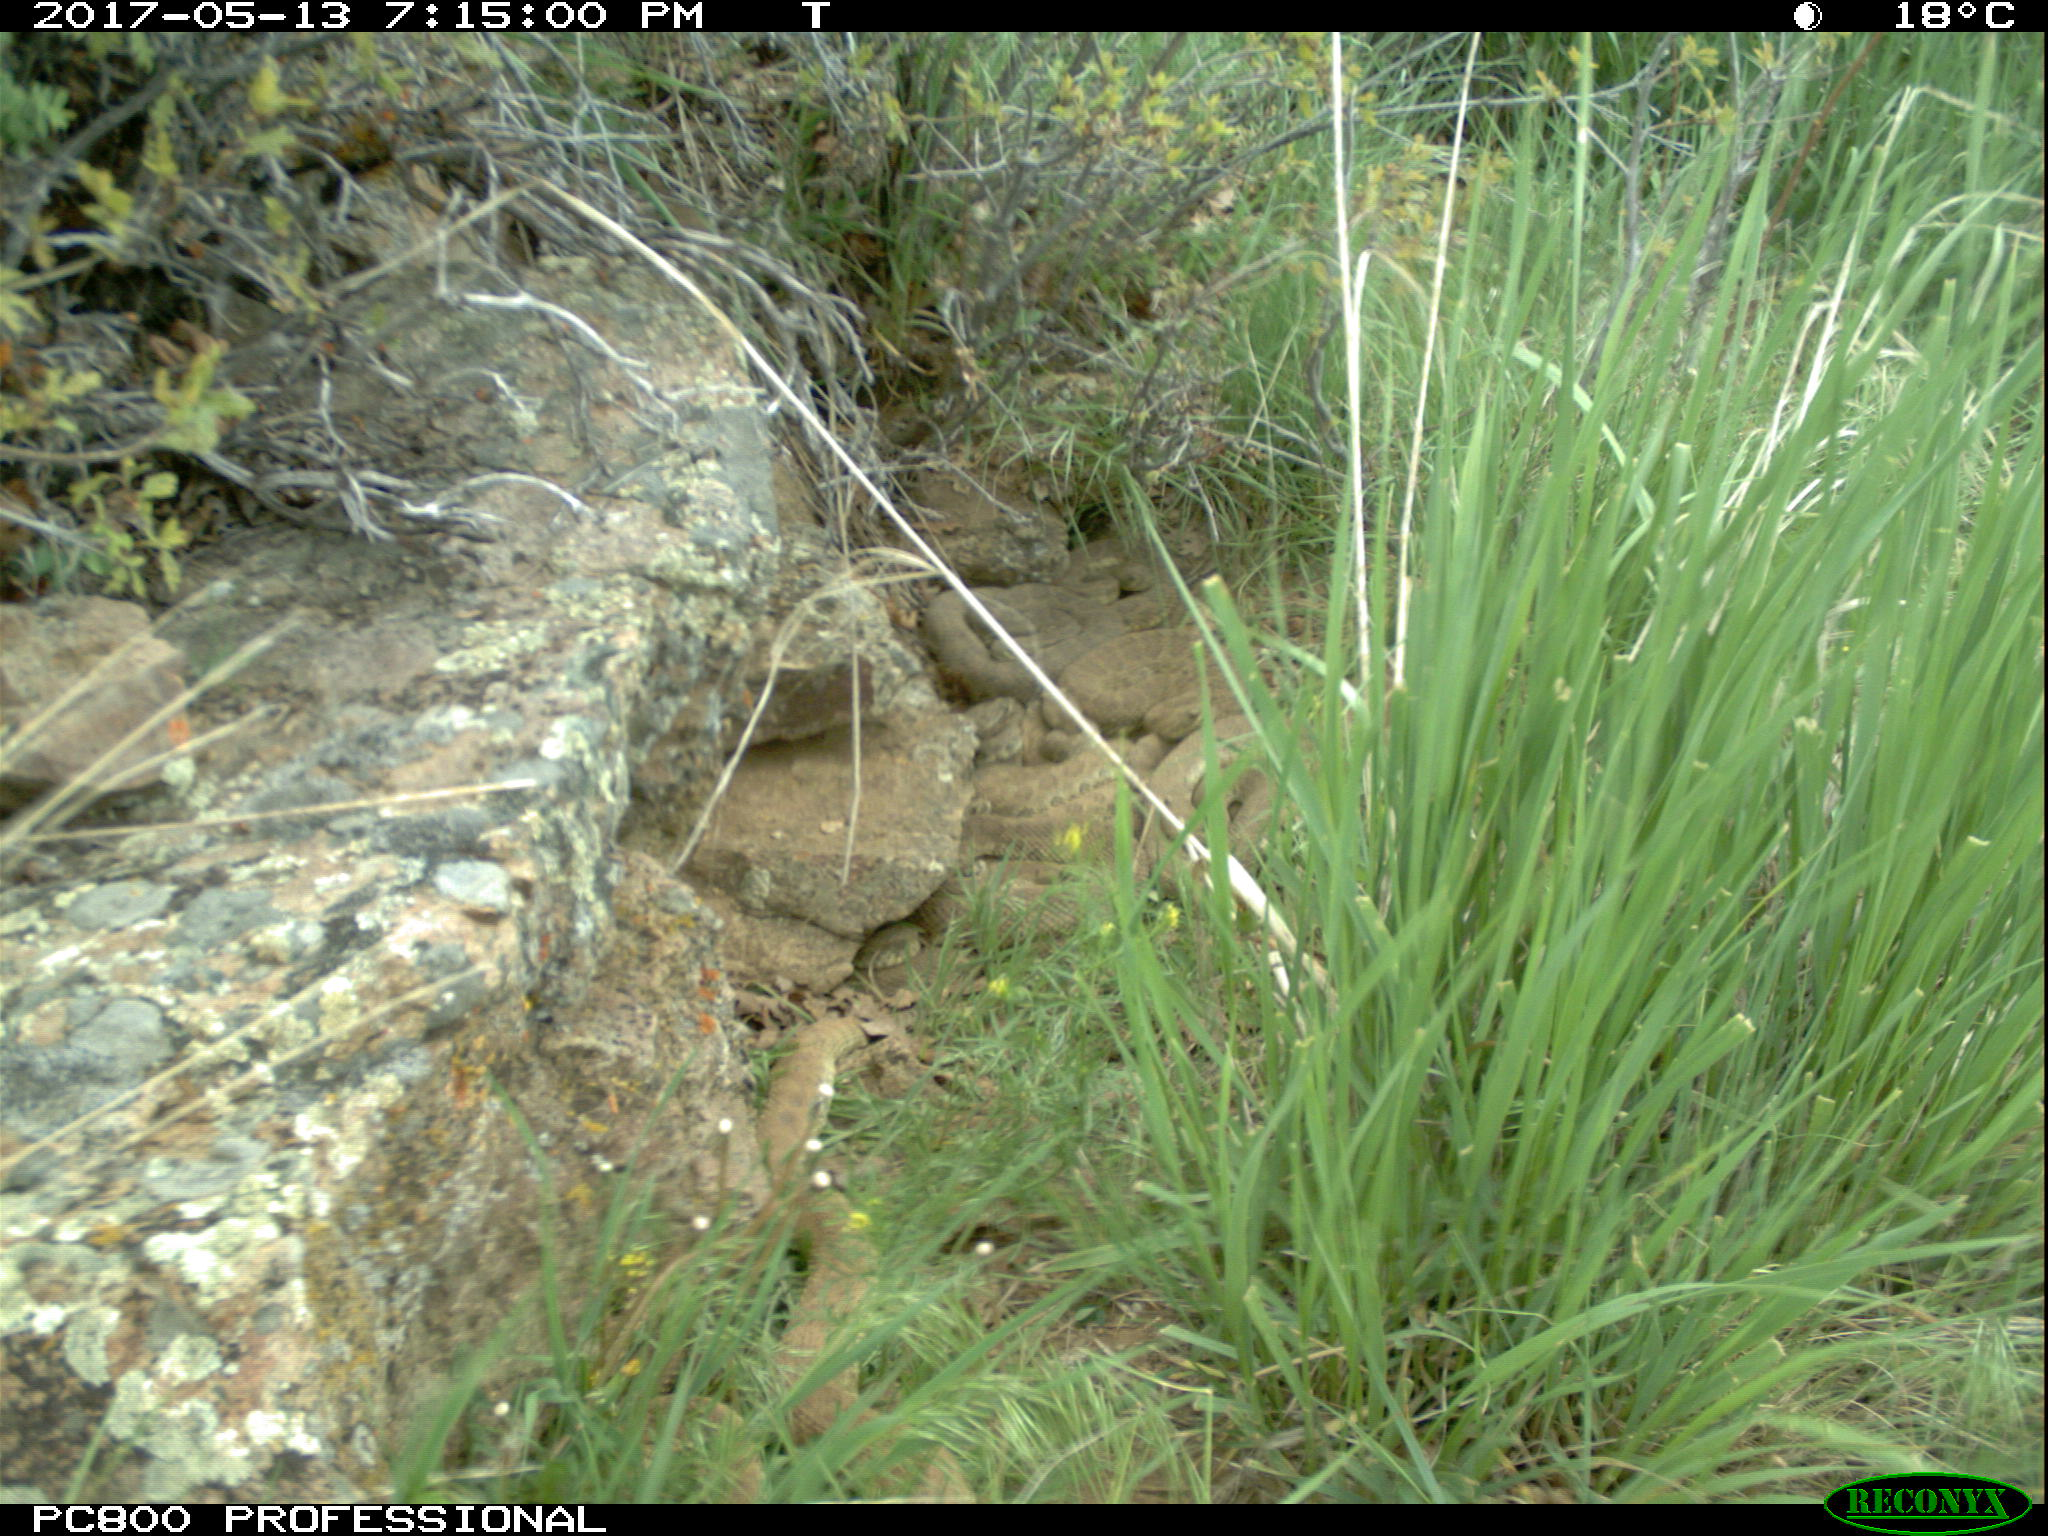snake: (1147, 707, 1298, 907), (777, 1186, 872, 1467), (919, 579, 1138, 699), (1051, 626, 1268, 737), (976, 744, 1143, 844), (940, 857, 1127, 945), (748, 1018, 834, 1208), (1064, 539, 1214, 626), (847, 920, 932, 973)
